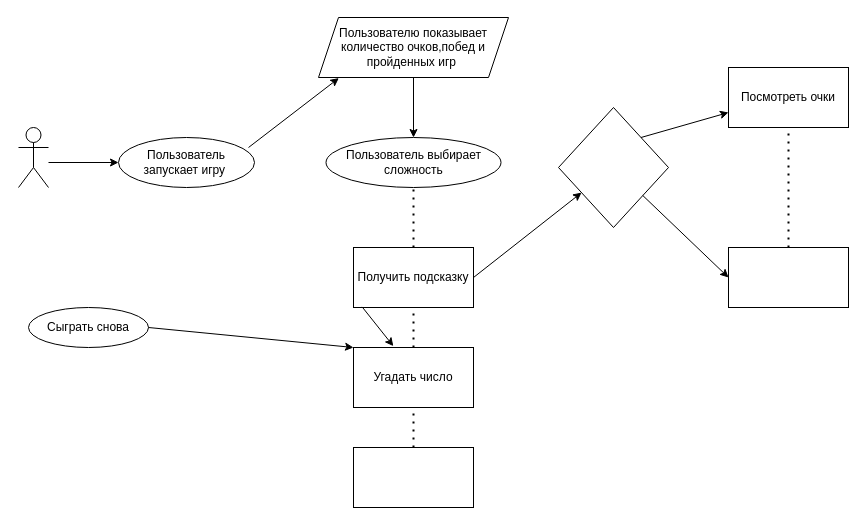
Image size: 866x525. Some labels were removed from this diagram. Each missing label, with the box of its shape:
Игрок: (18, 126, 48, 188)
Получить очки: (352, 446, 474, 508)
Пользователь вводит число: (558, 106, 668, 228)
Посмотреть статистику: (728, 246, 848, 308)
